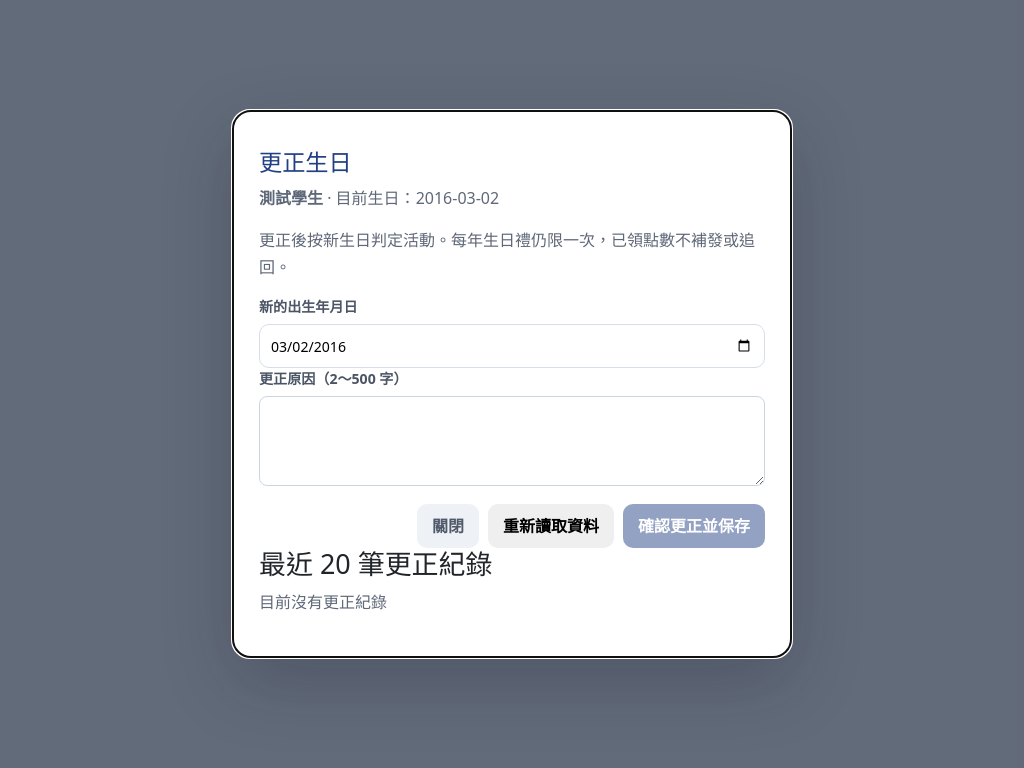
Test: conflict blocks further saving until the authoritative date is reloaded
Type "2016-10-02" into the date field labelled "新的出生年月日" at (512, 346), box [259,324,765,368]
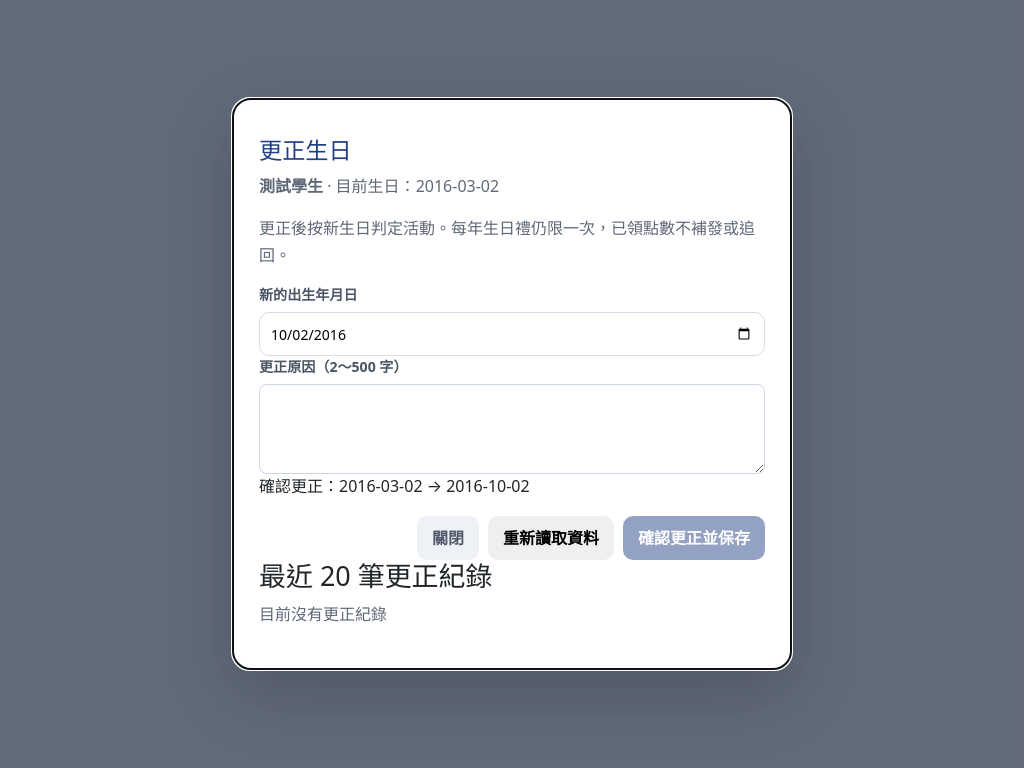
Type "測試帳號生日更正" into the text box labelled "更正原因（2～500 字）" at (512, 429), box [259,384,765,474]
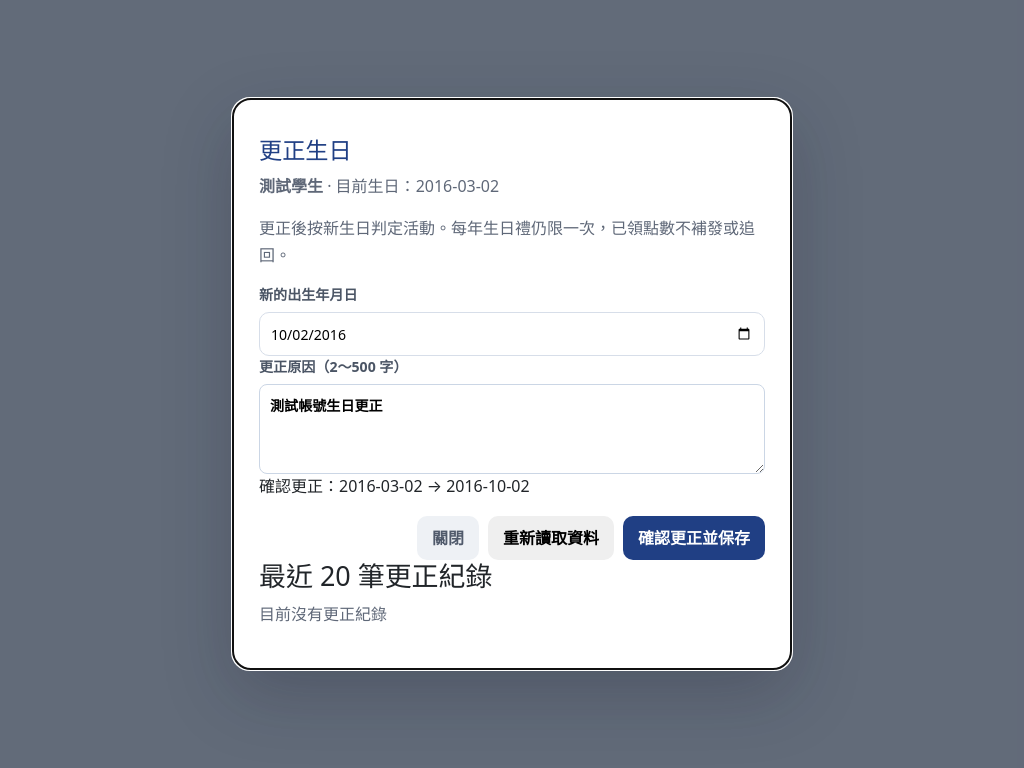
Click the button "確認更正並保存" at (694, 538), box [623,516,765,560]
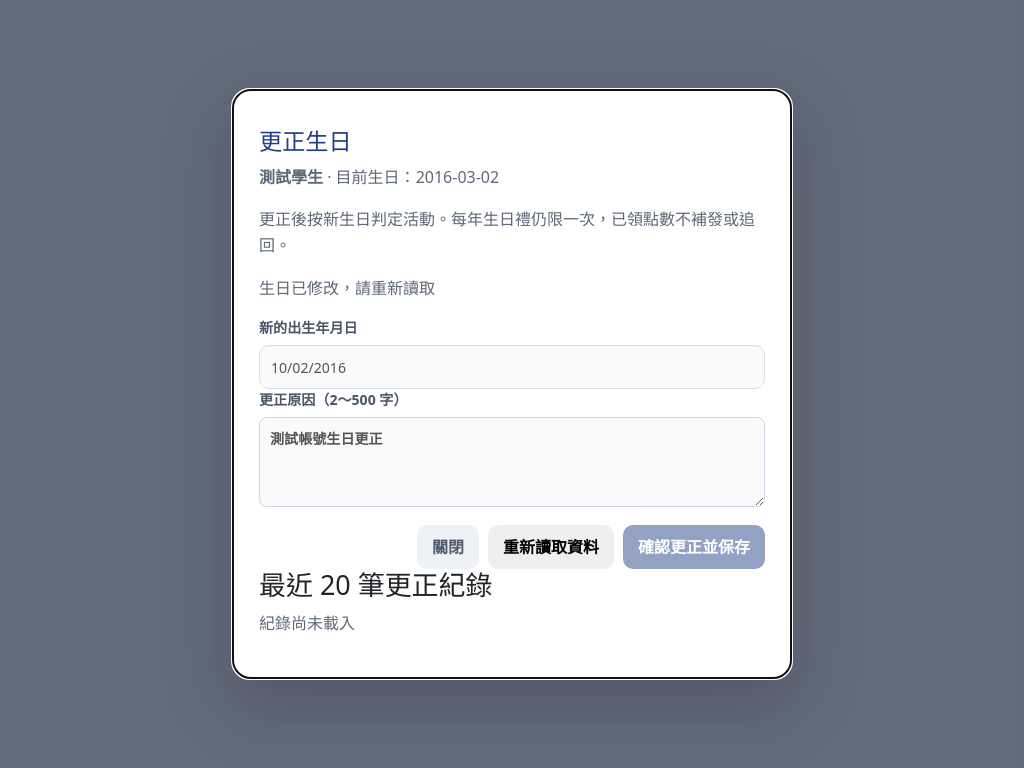
expect the message "生日已修改，請重新讀取" is shown: met, box [259,277,435,299]
expect the button "確認更正並保存" is disabled: met, box [623,526,765,570]
Click the button "重新讀取資料" at (551, 548), box [488,526,614,570]
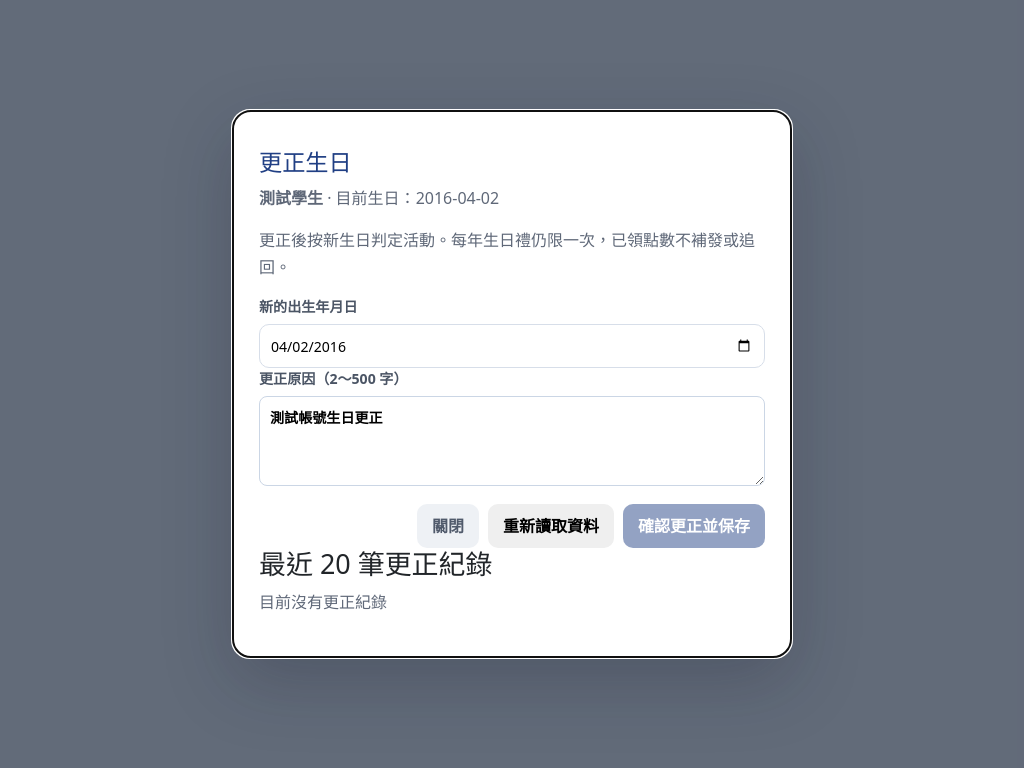
expect the date field labelled "新的出生年月日" holds "2016-04-02": met, box [259,324,765,368]
